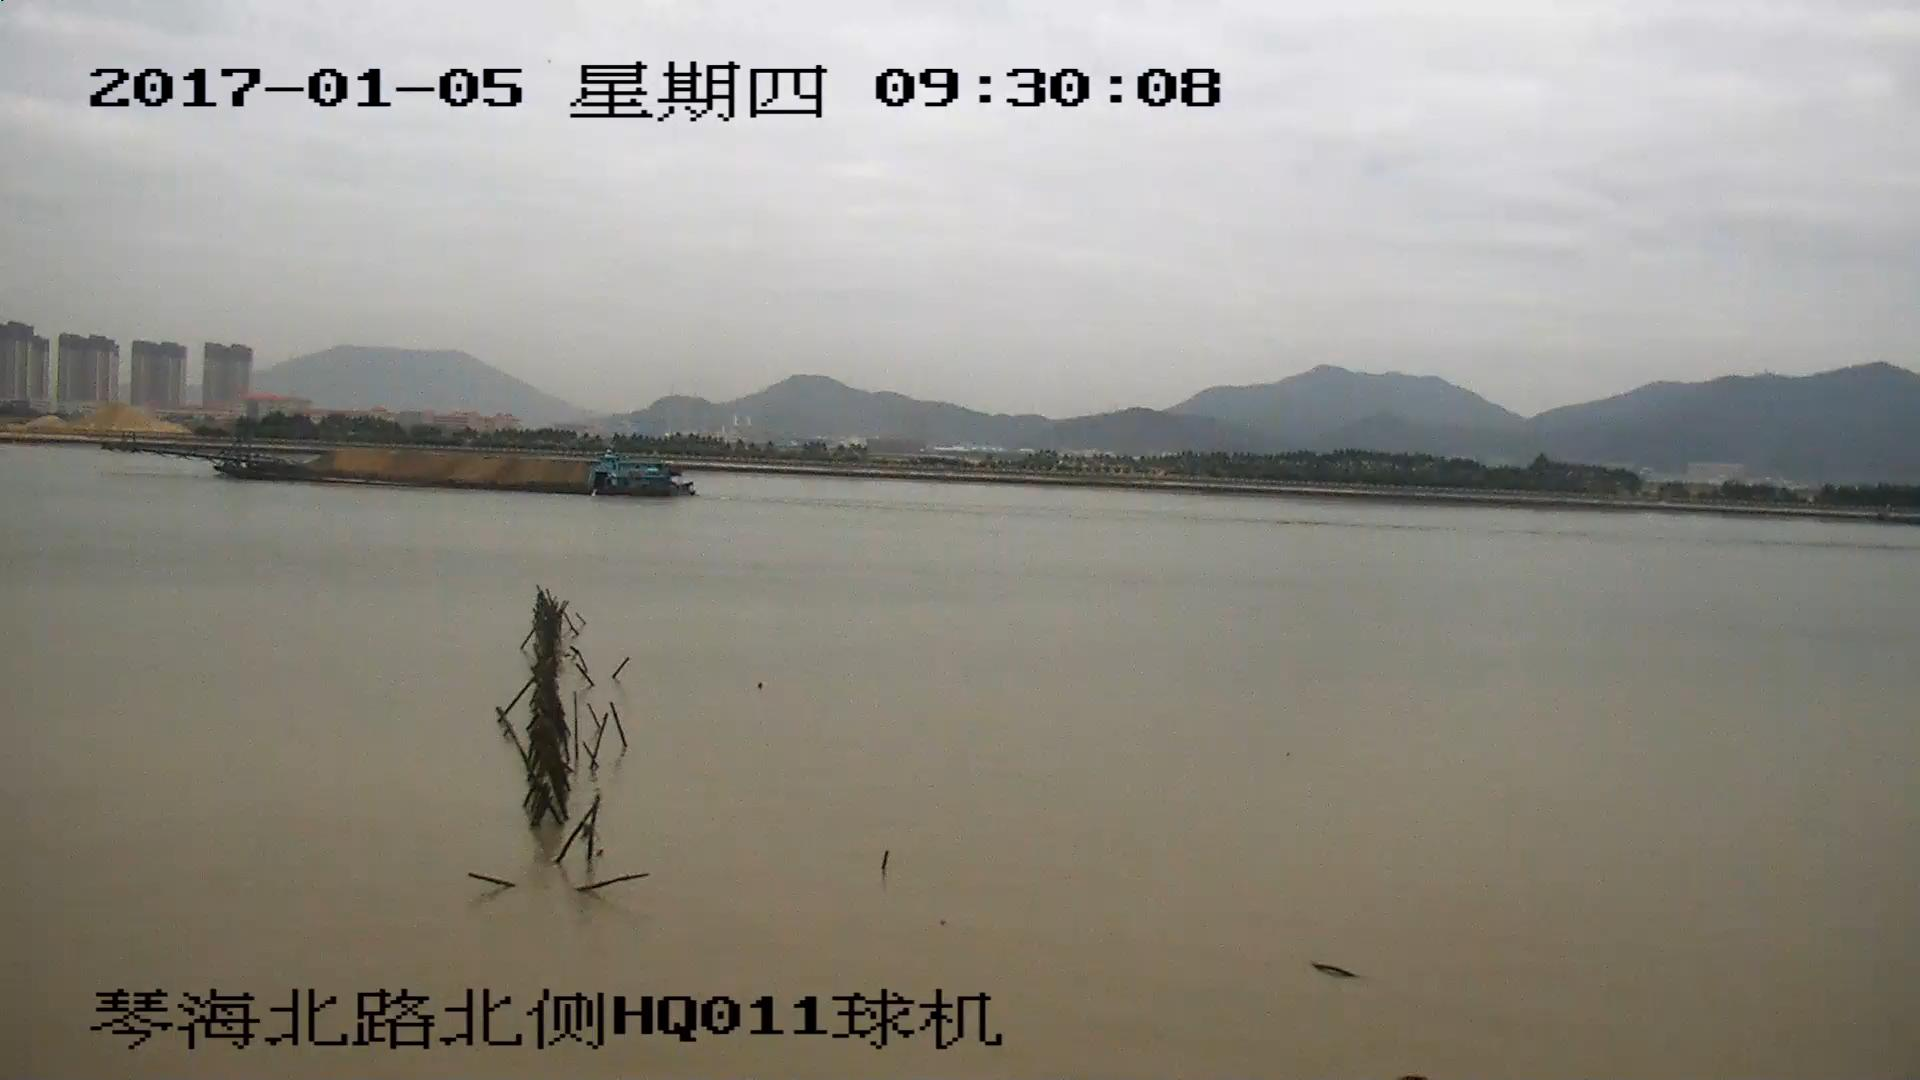ore carrier: (116, 430, 684, 496)
